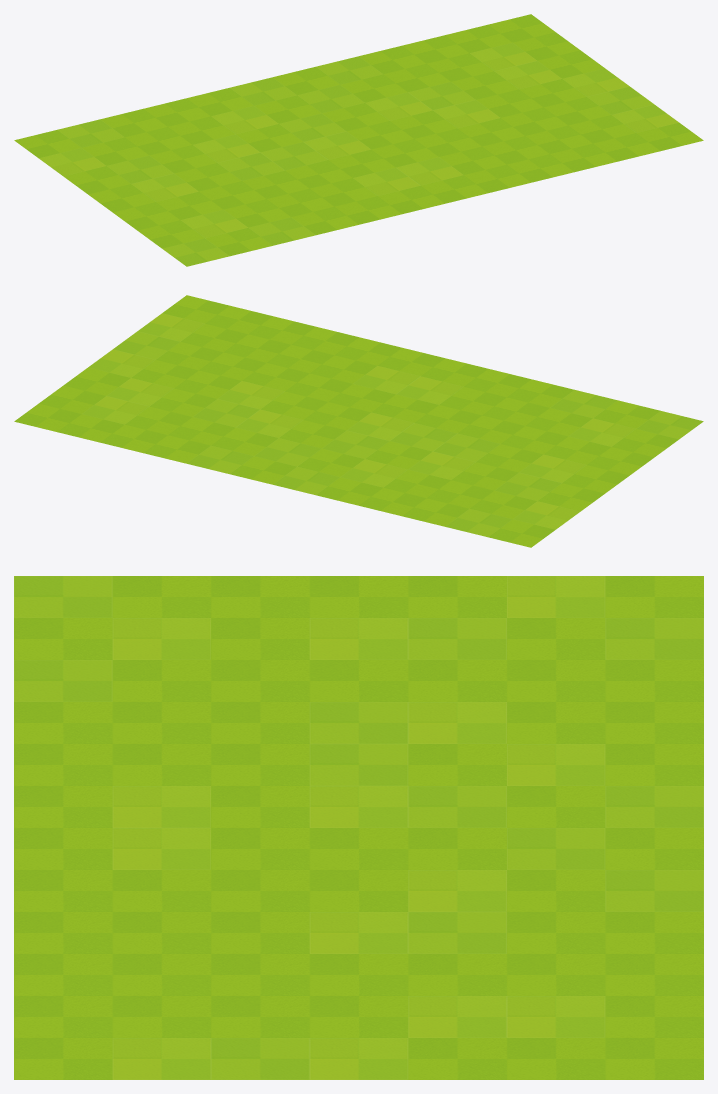
Rendered from Farm_1.gltf.
3 views of the same model, one above another, from view 1: azimuth 30°, elevation 25°; view 2: azimuth 150°, elevation 25°; view 3: azimuth 270°, elevation 25° (orthographic). The views are drawn at different scales.
Parts seen in each view (by area): view 1: Ground_0101; view 2: Ground_0101; view 3: Ground_0101.
Part boxes in pixels (x1,y1,x2,y2): Ground_0101: (14, 14, 703, 266); Ground_0101: (14, 295, 703, 547); Ground_0101: (14, 576, 703, 1079).
Bounding box in the file's own units: 0.2334 × 0 × 0.1351.
3 materials, 3 textured.
